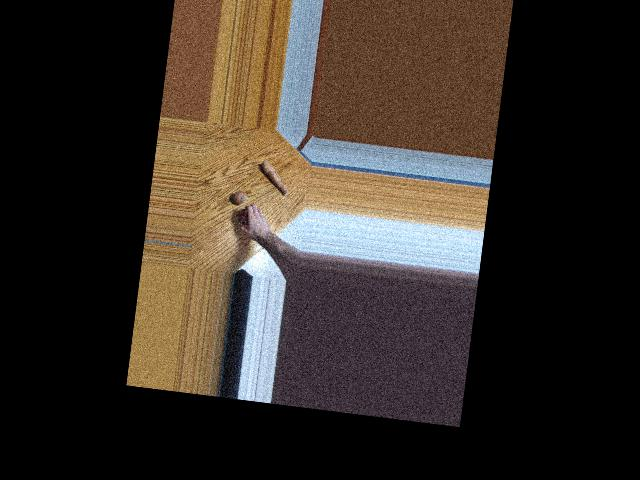onion: (234, 191, 247, 206)
